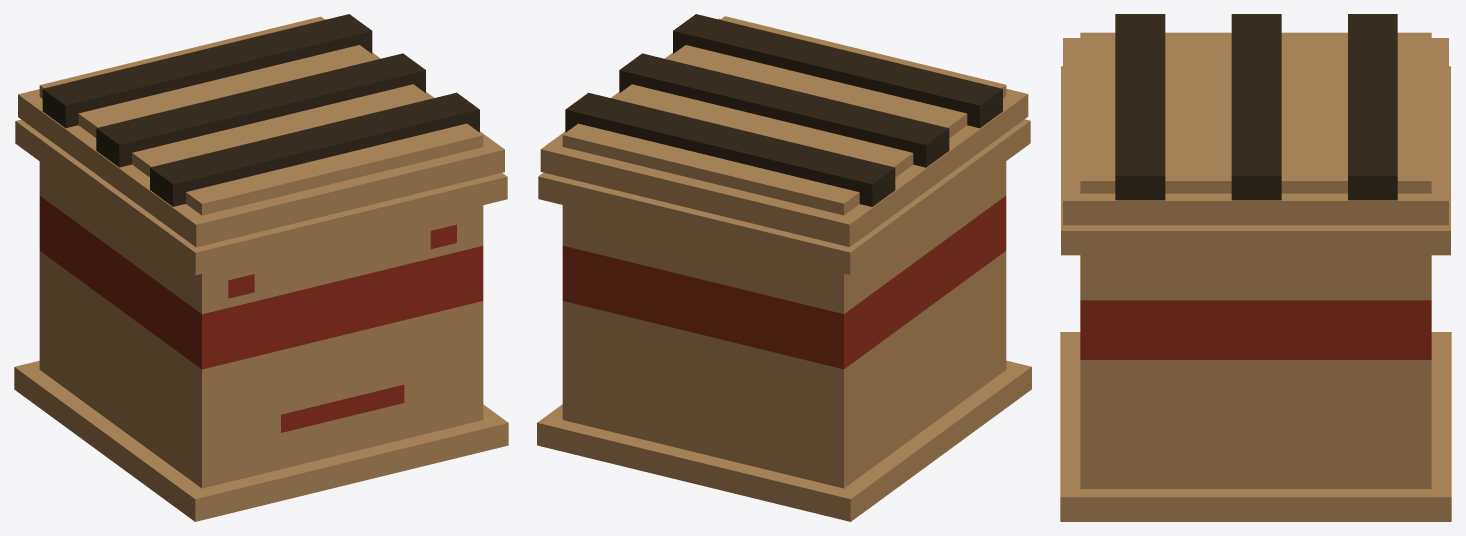
3 renders of one model, left to right at view 1: azimuth 30°, elevation 25°; view 2: azimuth 150°, elevation 25°; view 3: azimuth 270°, elevation 25°, orthographic. The views are drawn at different scales.
Visible parts, largest first — view 1: Null; view 2: Null; view 3: Null.
Boxes of the visible parts, x1=… form: Null: x1=14, y1=14, x2=508, y2=521; Null: x1=537, y1=14, x2=1031, y2=521; Null: x1=1060, y1=14, x2=1451, y2=521.
Size of the model in its own units: 223 by 216 by 223.
